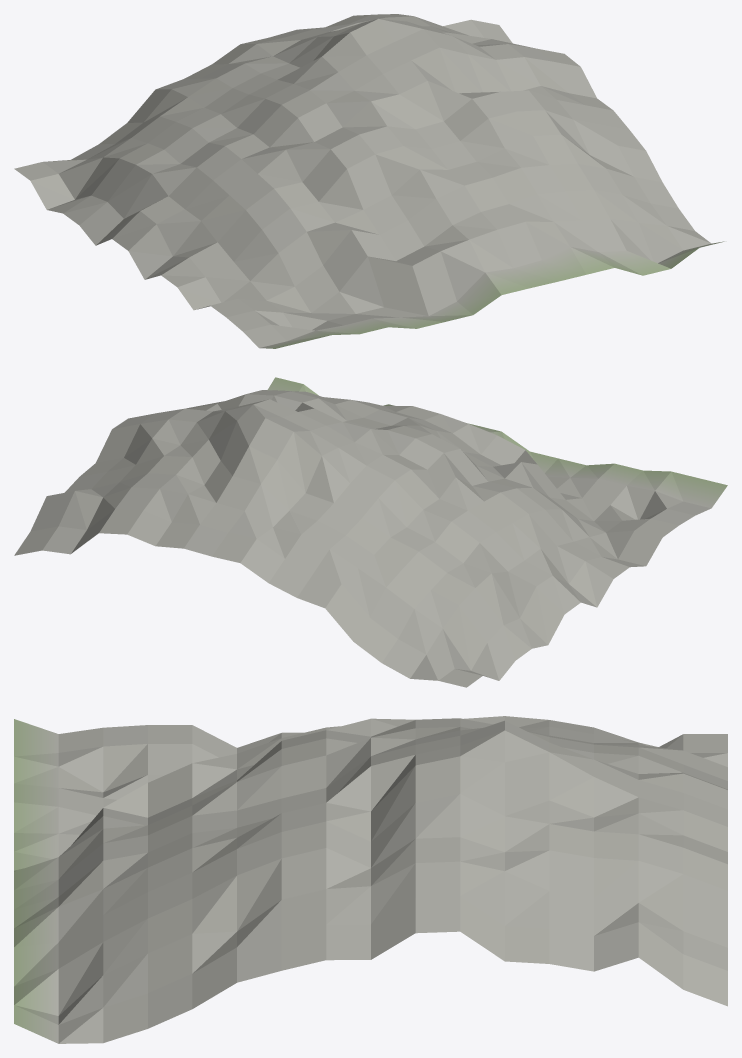
3 renders of one model, top to bottom at view 1: azimuth 30°, elevation 25°; view 2: azimuth 150°, elevation 25°; view 3: azimuth 270°, elevation 25°, orthographic. The views are drawn at different scales.
Bounding box in the file's own units: 32 × 10.68 × 32.
